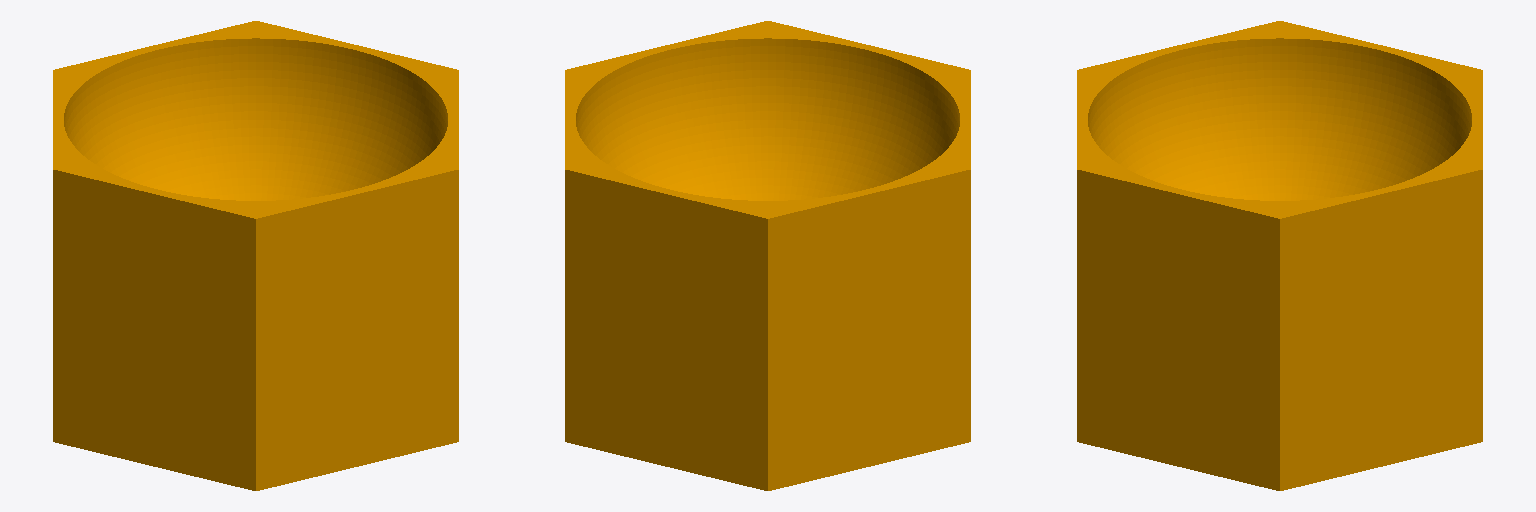
robot.urdf — socket_semisphere:
<?xml version="1.0"?>
<robot name="socket_semisphere">
    <link name="socket_semisphere">
        <visual>
            <geometry>
                <mesh filename="../mesh/vitascope_pegs/socket_semisphere.obj"/>
            </geometry>
        </visual>
        <collision>
            <geometry>
                <mesh filename="../mesh/vitascope_pegs/socket_semisphere.obj"/>
            </geometry>
            <sdf resolution="256"/>
        </collision>
    </link>
</robot>

--- Facts derived from the render (not from the file) ---
The picture shows the robot from 3 angles, left to right: view 1: azimuth 30°, elevation 25°; view 2: azimuth 150°, elevation 25°; view 3: azimuth 270°, elevation 25°; orthographic projection.
Robot: socket_semisphere — 1 links, 0 joints (none); root link socket_semisphere; default pose: every joint at zero.
Links seen in each view (by area): view 1: socket_semisphere; view 2: socket_semisphere; view 3: socket_semisphere.
Link boxes in pixels (x1,y1,x2,y2): socket_semisphere: (53,21,458,490); socket_semisphere: (565,21,970,490); socket_semisphere: (1077,21,1482,490).
Bounding box of the posed robot: 0.0423 × 0.0366 × 0.0271 m (x, y, z).
Meshes: 1 distinct files referenced, 1 mesh visuals loaded (1 OBJ).
